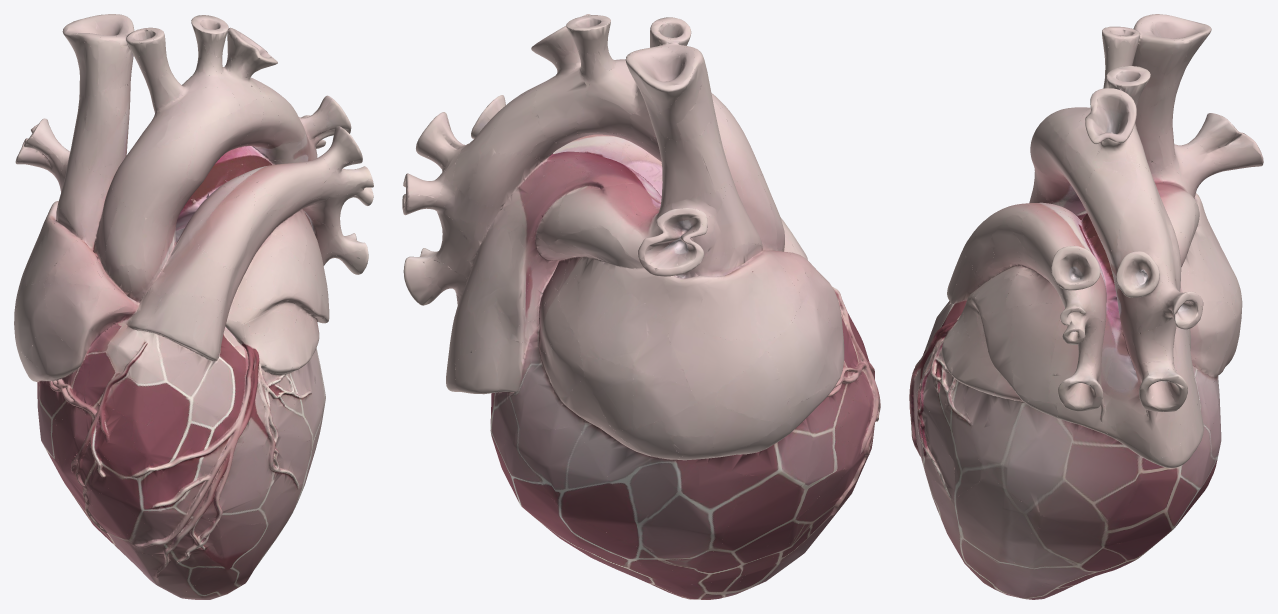
Rendered from rose-heart.glb.
3 views of the same model, side by side, from view 1: azimuth 30°, elevation 25°; view 2: azimuth 150°, elevation 25°; view 3: azimuth 270°, elevation 25° (orthographic). The views are drawn at different scales.
Visible parts, largest first — view 1: Mesh_0.002; view 2: Mesh_0.002; view 3: Mesh_0.002.
Boxes of the visible parts, x1,y1,x2,y2 form: Mesh_0.002: [14, 14, 373, 599]; Mesh_0.002: [402, 14, 880, 599]; Mesh_0.002: [909, 14, 1263, 599].
Bounding box in the file's own units: 1.24 × 1.9 × 1.09.
Materials: 1 (1 with a texture image).
